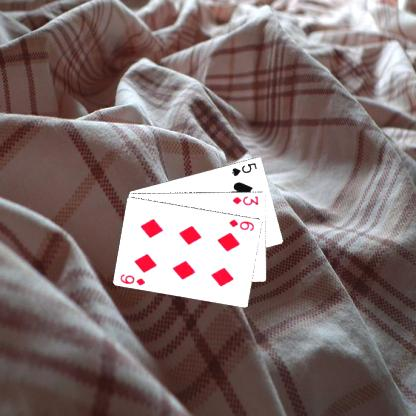3D: (230, 193, 259, 206)
5S: (230, 160, 258, 177)
6D: (227, 216, 255, 233), (118, 271, 146, 287)
